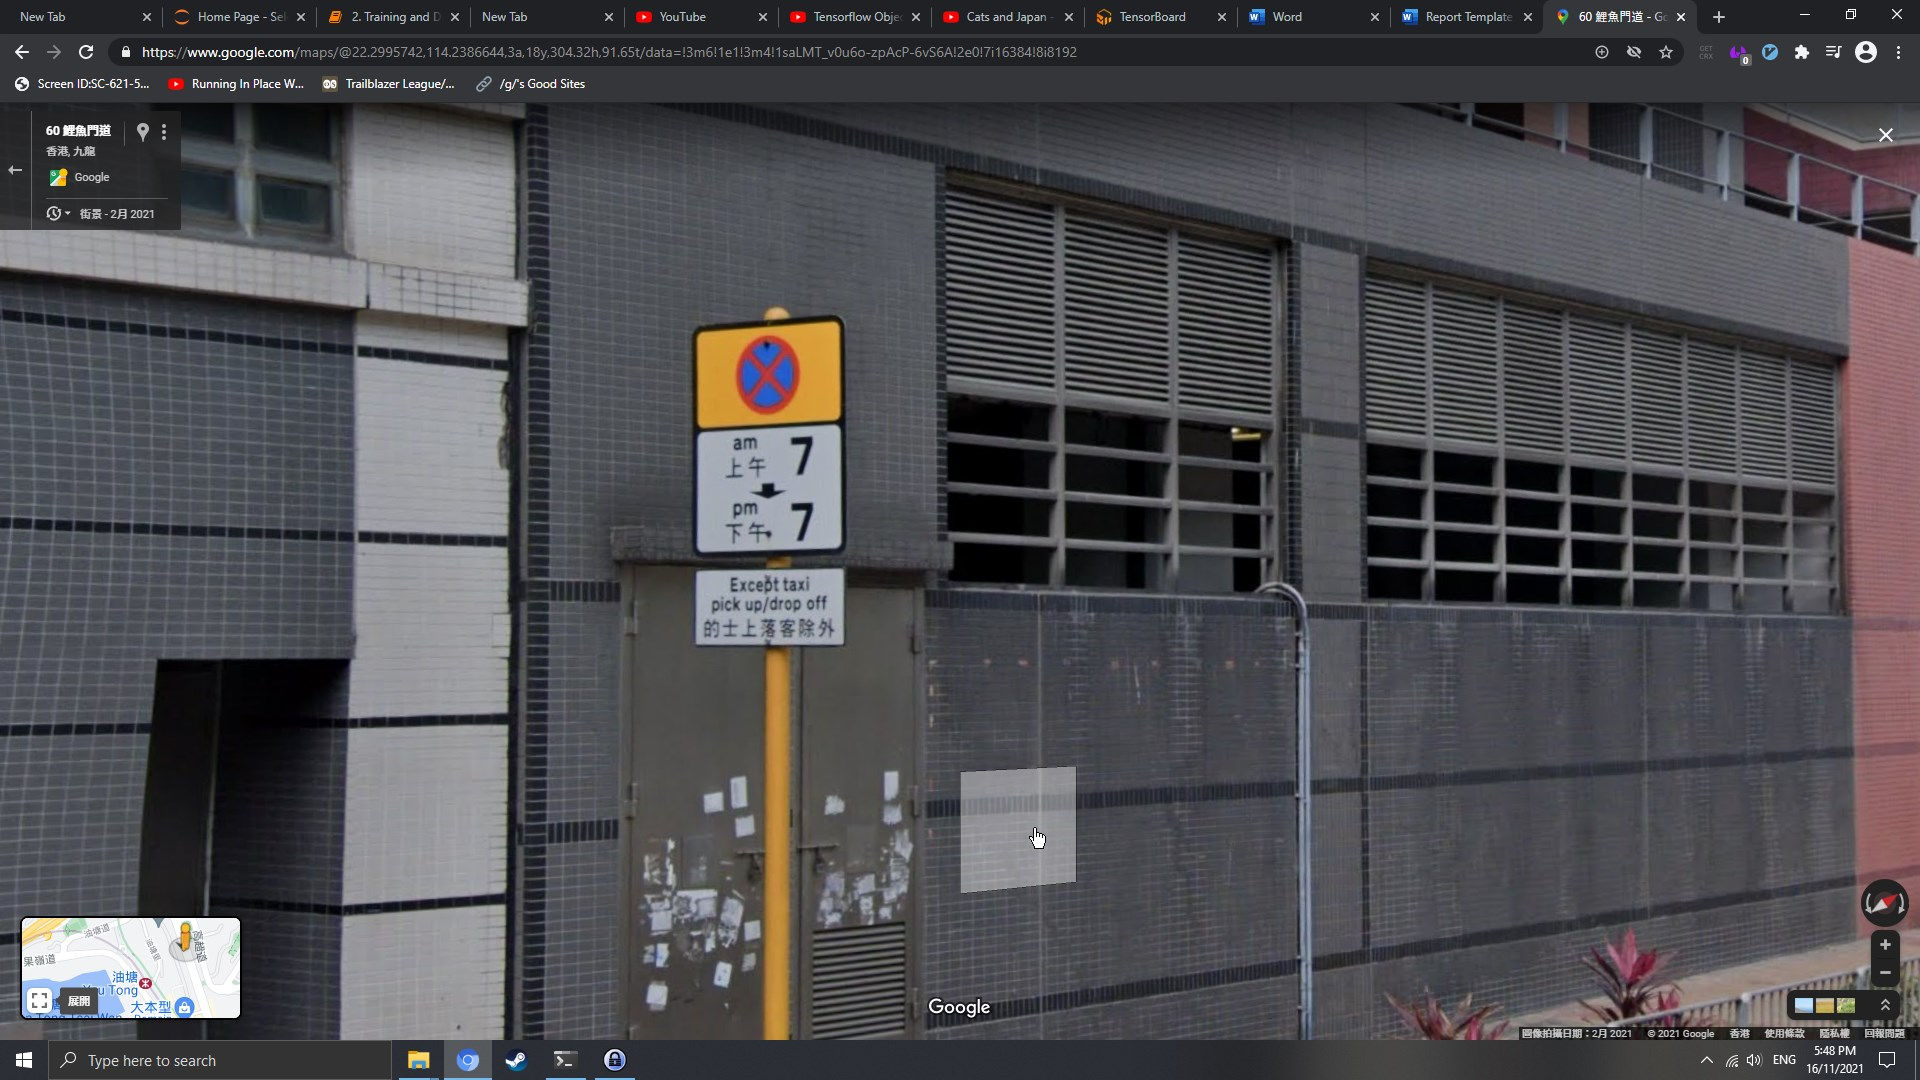NoStop: (736, 335, 799, 415)
